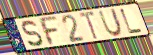2: (61, 14, 86, 44)
F: (36, 16, 61, 47)
L: (119, 8, 144, 35)
S: (22, 19, 45, 48)
T: (78, 10, 100, 42)
U: (97, 7, 124, 38)
